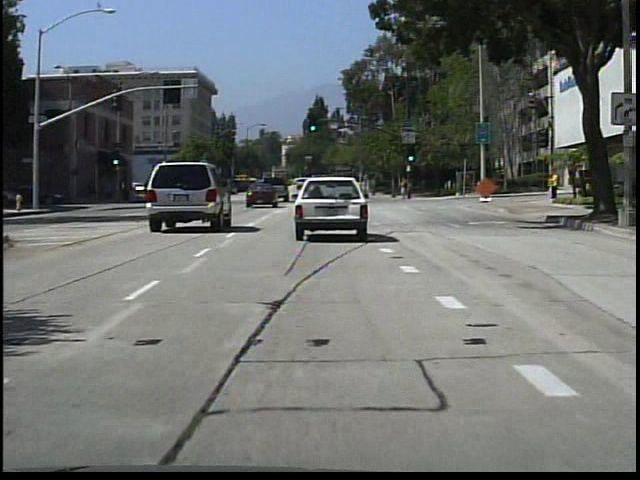person: (399, 173, 414, 205)
